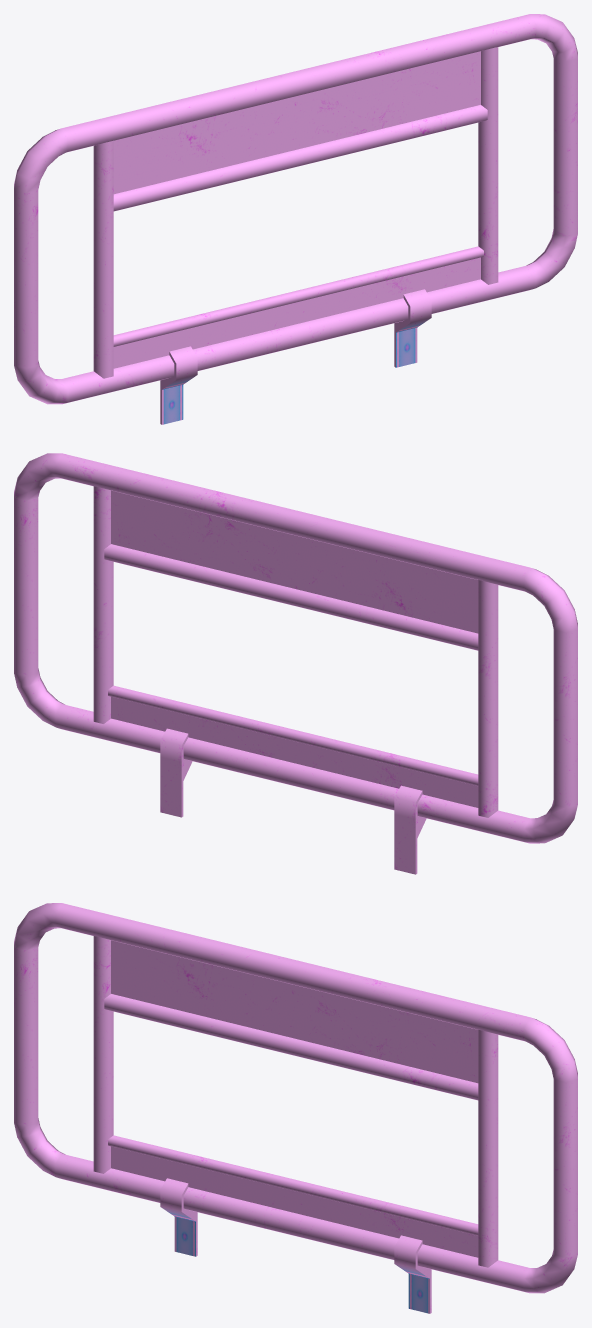
File: Rail_01_SM_Low.fbx
3 renders of one model, top to bottom at view 1: azimuth 30°, elevation 25°; view 2: azimuth 150°, elevation 25°; view 3: azimuth 330°, elevation 25°, orthographic.
Visible parts, largest first — view 1: OneLength; view 2: OneLength; view 3: OneLength.
Part boxes in pixels (x1=…): OneLength: x1=14, y1=14, x2=577, y2=424; OneLength: x1=14, y1=453, x2=577, y2=874; OneLength: x1=14, y1=903, x2=577, y2=1313.
Size of the model in its own units: 200 by 111 by 9.76.
1 material, 1 textured.
